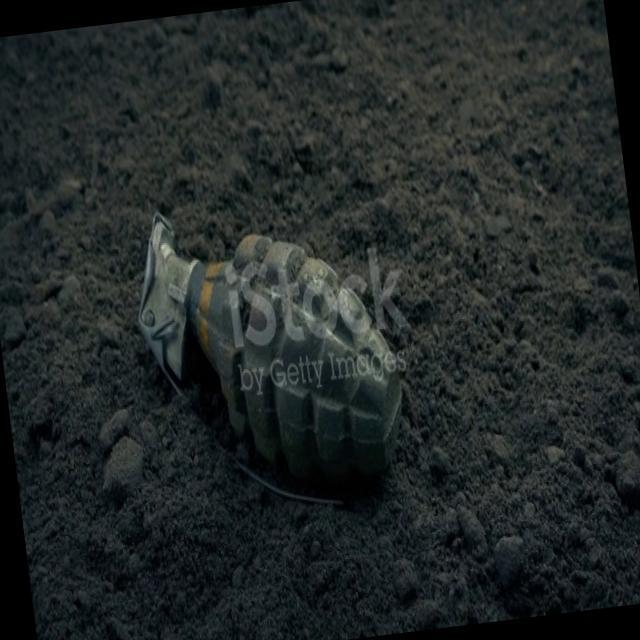grenade: (122, 176, 420, 531)
